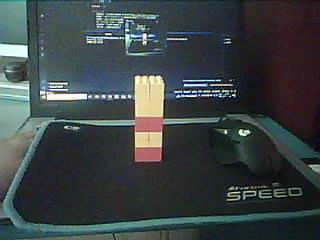lego: (134, 75, 165, 162)
